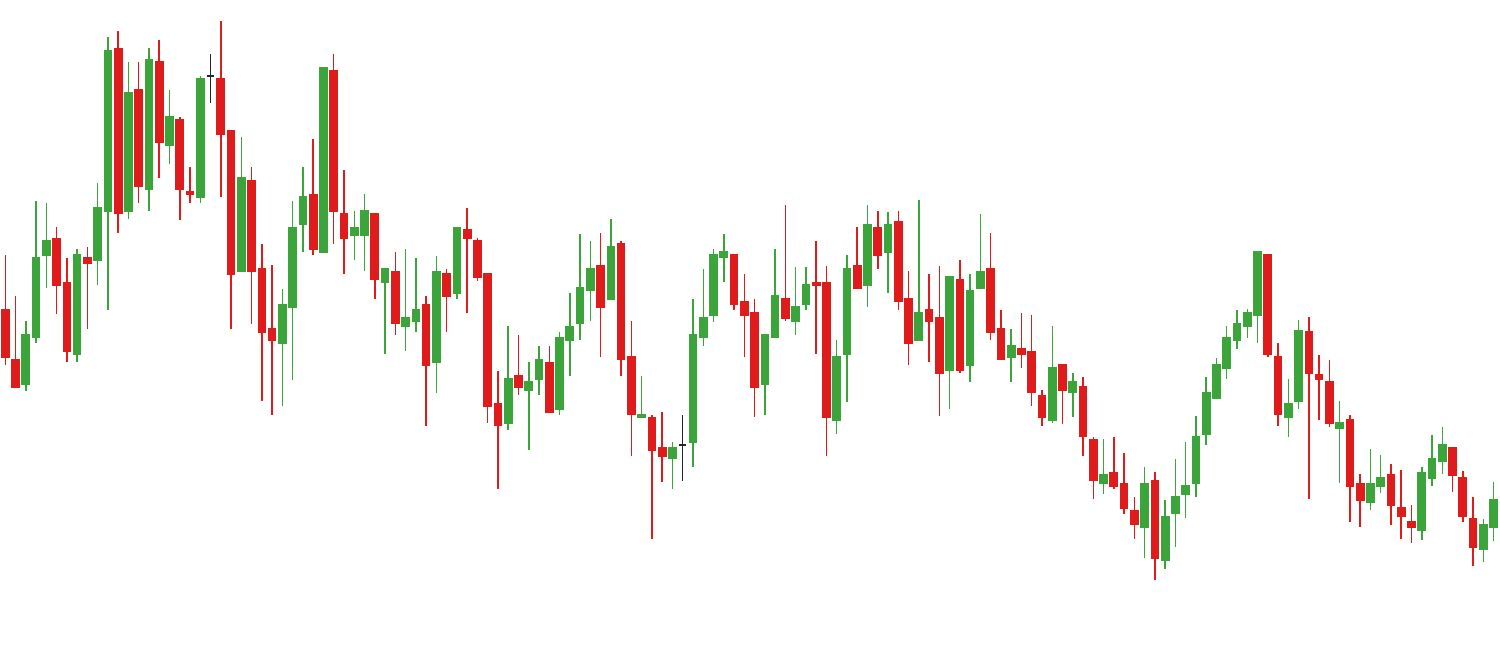sell: (715, 203, 794, 342), (1364, 426, 1459, 516), (811, 201, 864, 334)
